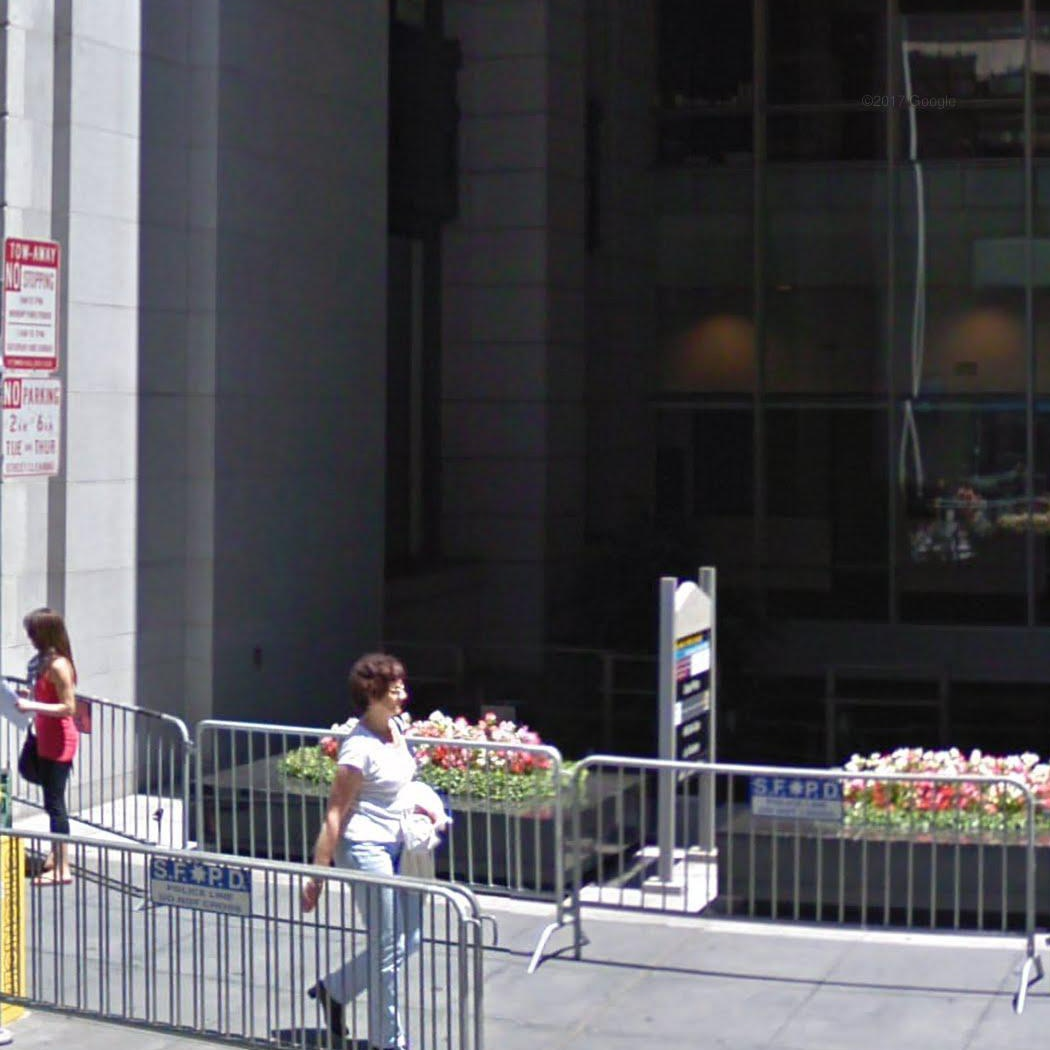No Parking: (0, 376, 64, 480)
